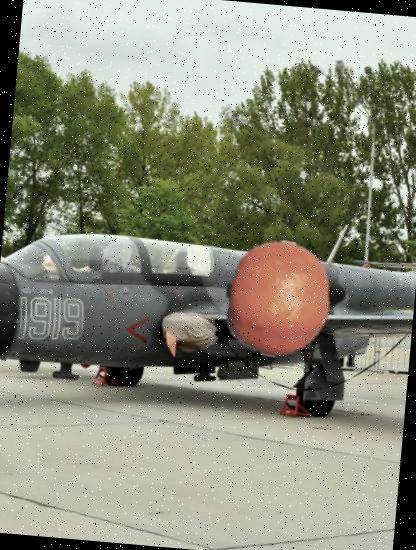Clementine: (214, 235, 341, 362)
